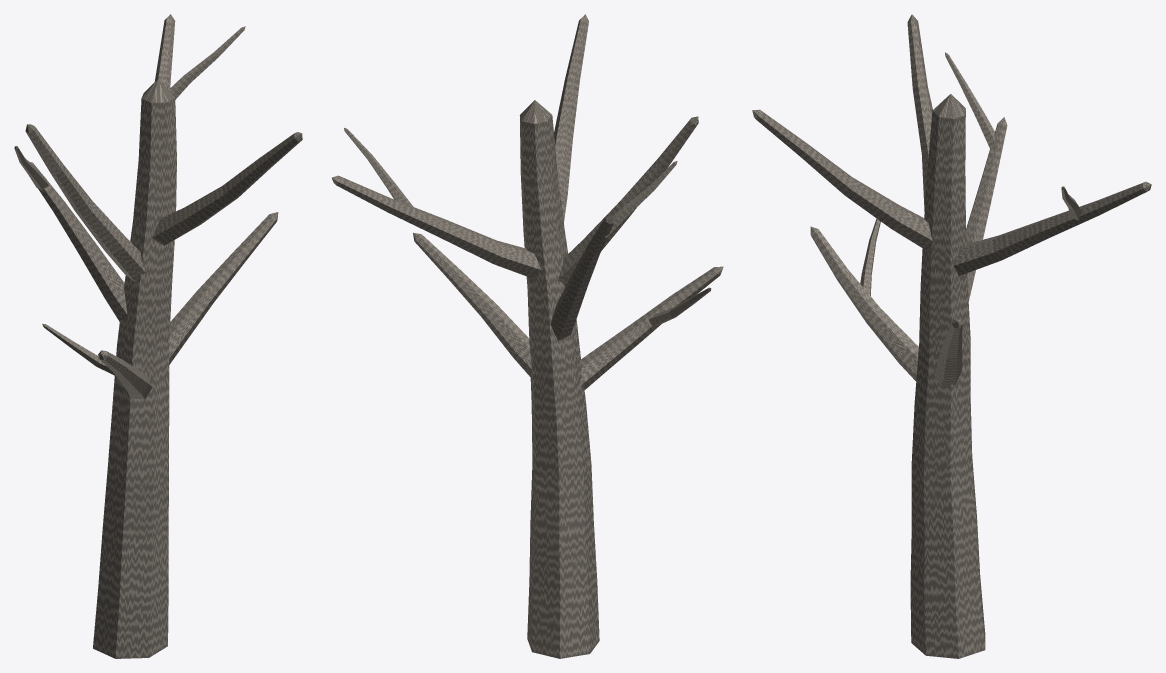
The model's file is 죽은나무_01.fbx.
3 renders of one model, left to right at view 1: azimuth 30°, elevation 25°; view 2: azimuth 150°, elevation 25°; view 3: azimuth 270°, elevation 25°, orthographic. The views are drawn at different scales.
Parts seen in each view (by area): view 1: 죽은나무_01; view 2: 죽은나무_01; view 3: 죽은나무_01.
Part boxes in pixels (x1,y1,x2,y2): 죽은나무_01: (14,14,302,658); 죽은나무_01: (332,14,723,658); 죽은나무_01: (752,14,1151,658).
Bounding box in the file's own units: 3107 × 5700 × 3624.
